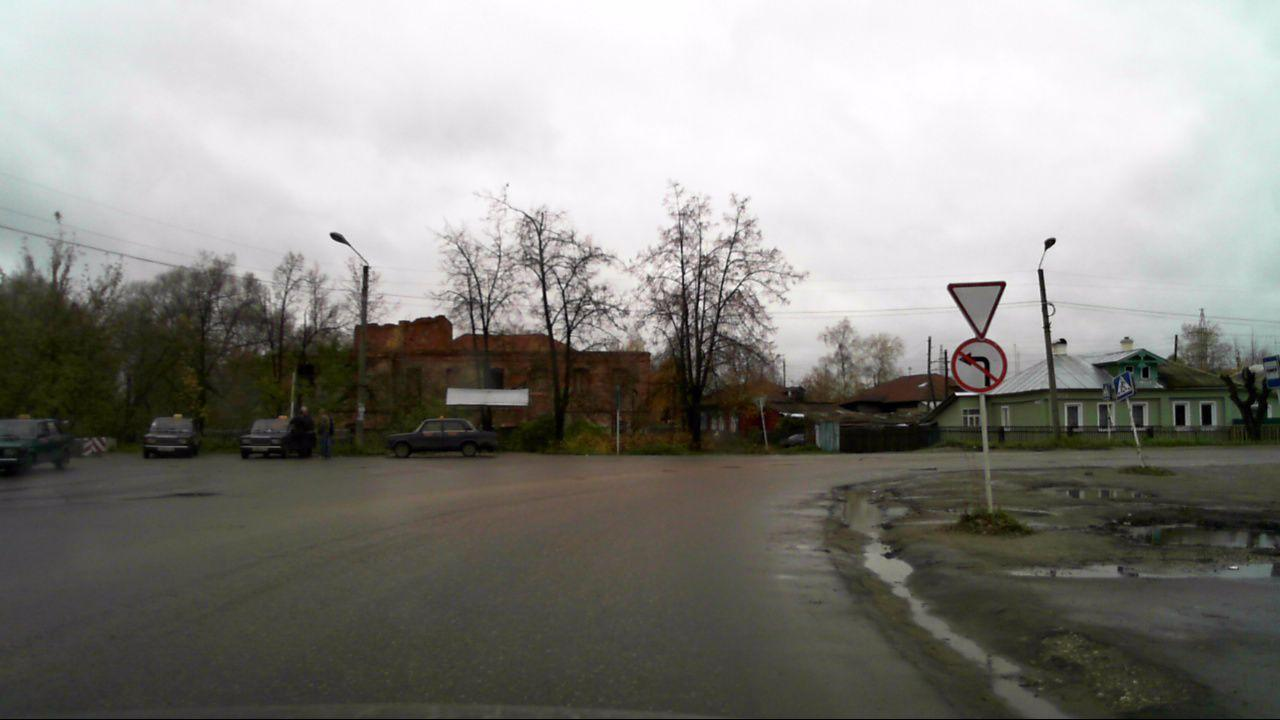2_4: (945, 276, 1015, 338)
3_18_2: (950, 337, 1007, 393)
5_16: (1261, 355, 1280, 388)
5_19_1: (1109, 372, 1138, 401)
